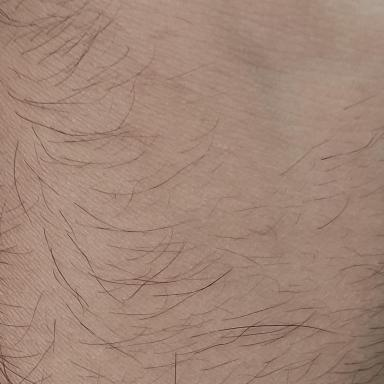normal skin: (2, 0, 383, 384)
